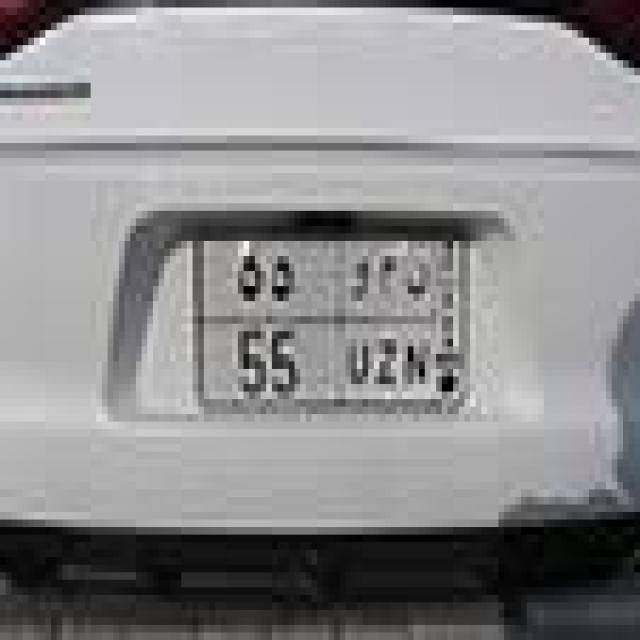license_plate: (142, 180, 492, 452)
